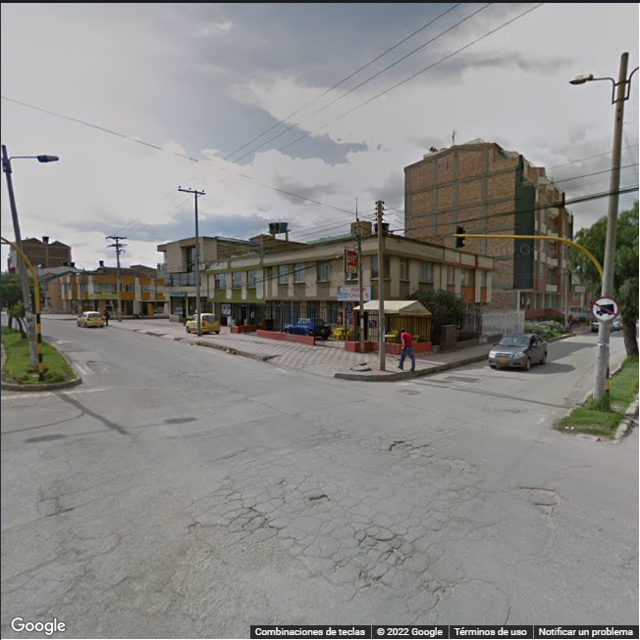D20: (212, 454, 415, 615)
D40: (520, 482, 567, 514)
